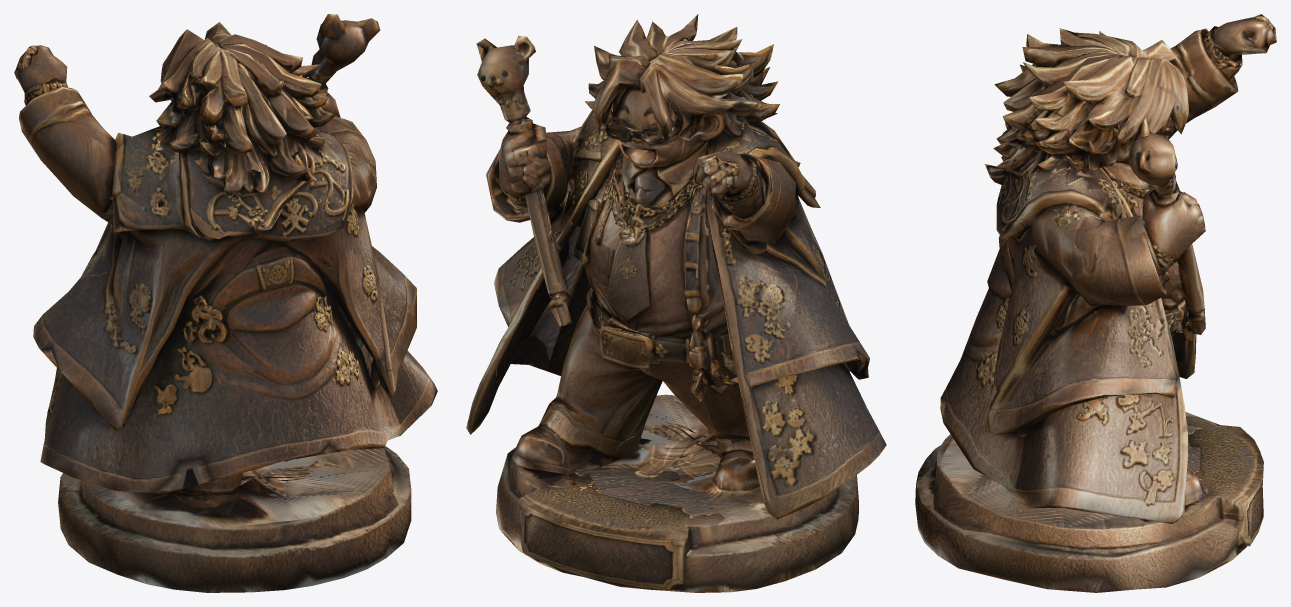
Rendered from Statue_Real.fbx.
3 renders of one model, left to right at view 1: azimuth 30°, elevation 25°; view 2: azimuth 150°, elevation 25°; view 3: azimuth 270°, elevation 25°, orthographic. The views are drawn at different scales.
Visible parts, largest first — view 1: texture_mapping; view 2: texture_mapping; view 3: texture_mapping.
Boxes of the visible parts, bbox=[...] form: texture_mapping: bbox=[14, 14, 437, 592]; texture_mapping: bbox=[466, 14, 886, 592]; texture_mapping: bbox=[915, 14, 1276, 592].
Size of the model in its own units: 0.8344 by 1 by 0.6922.
